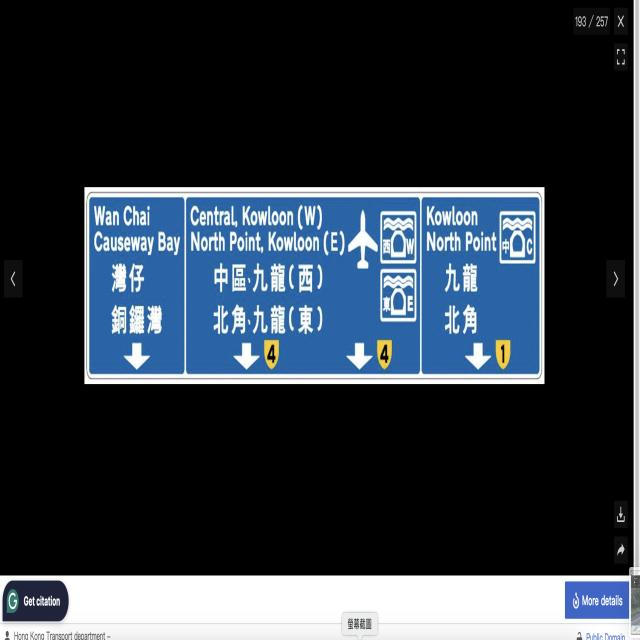Direction-Sign: (89, 195, 542, 378)
